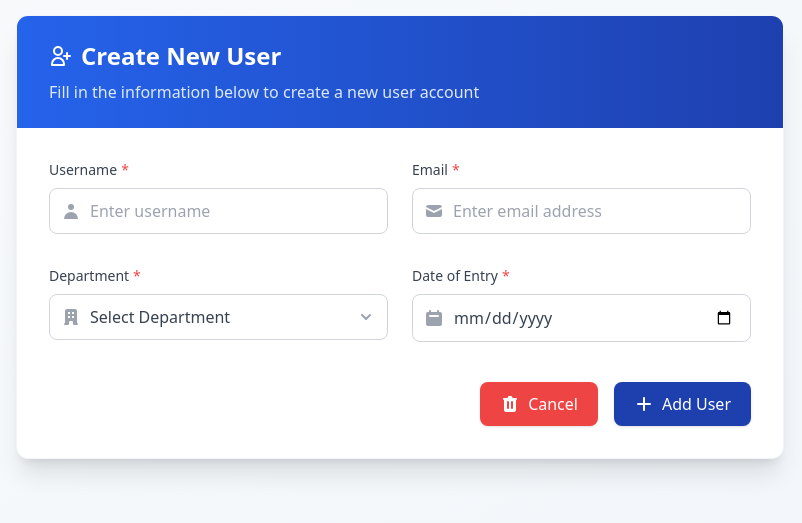
Scenario: UserCreate Component › validates email format
The width and height of the screenshot is (802, 523).
Type "testuser" into the field labelled "Username*". click: (218, 211)
box: [49,188,388,234]
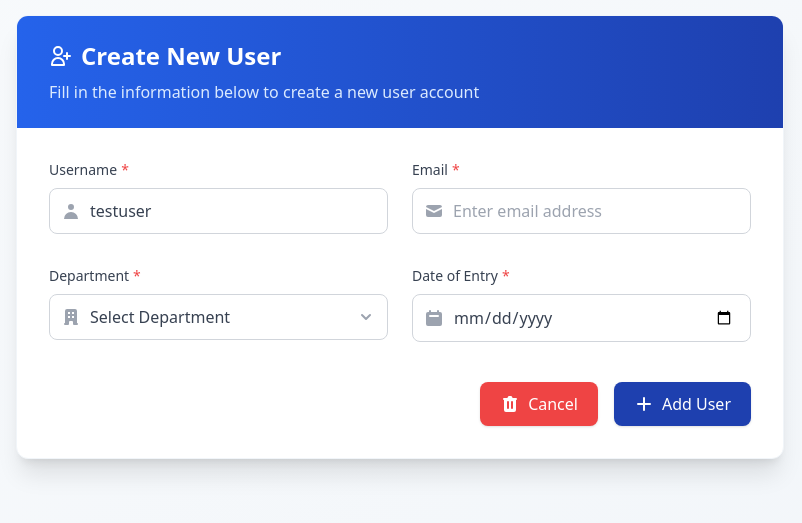
# Use an email without the required dot in the domain part
Type "invalid@domain" into the field labelled "Email*". click: (582, 211)
box: [412,188,751,234]
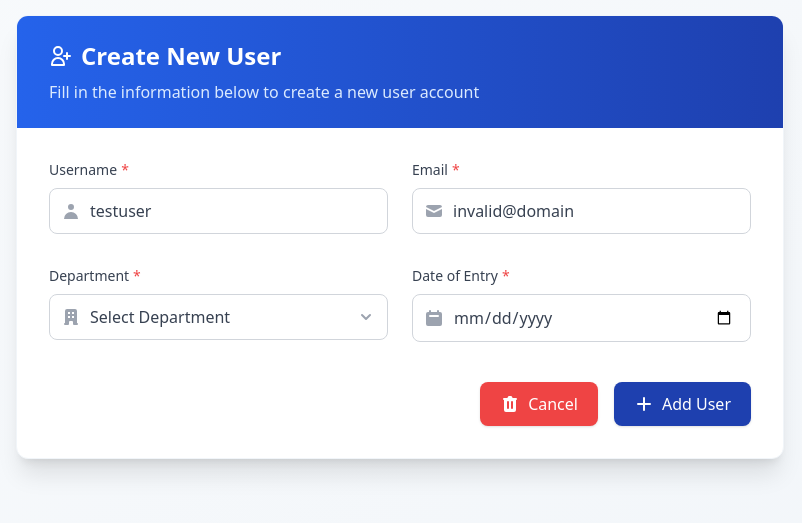
Select "IT" in the dropdown labelled "Department*". click: (218, 317)
box: [49,294,388,340]
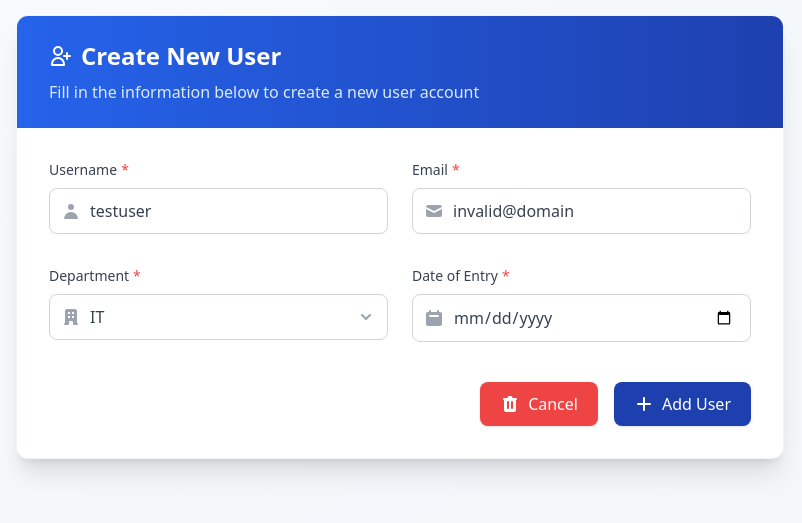
Type "2023-01-01" into the date field labelled "Date of Entry*". click: (582, 318)
box: [412,294,751,342]
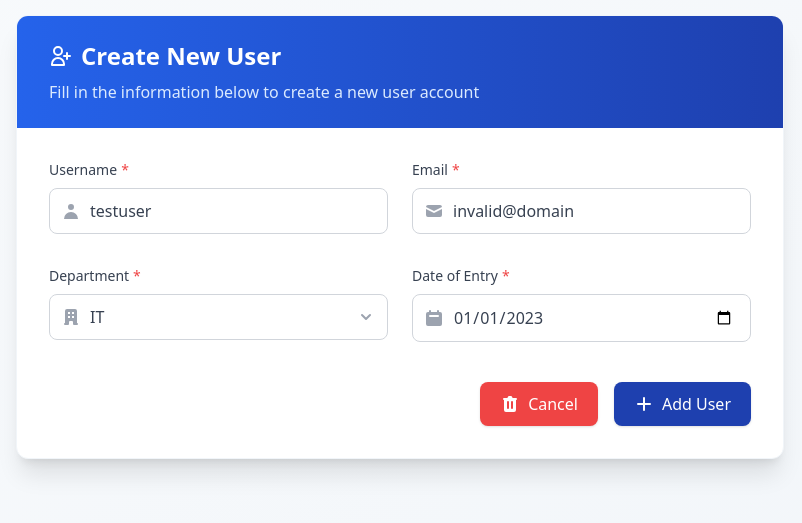
# Submit the form
Click the button "Add User". click: (682, 404)
box: [614,382,751,426]
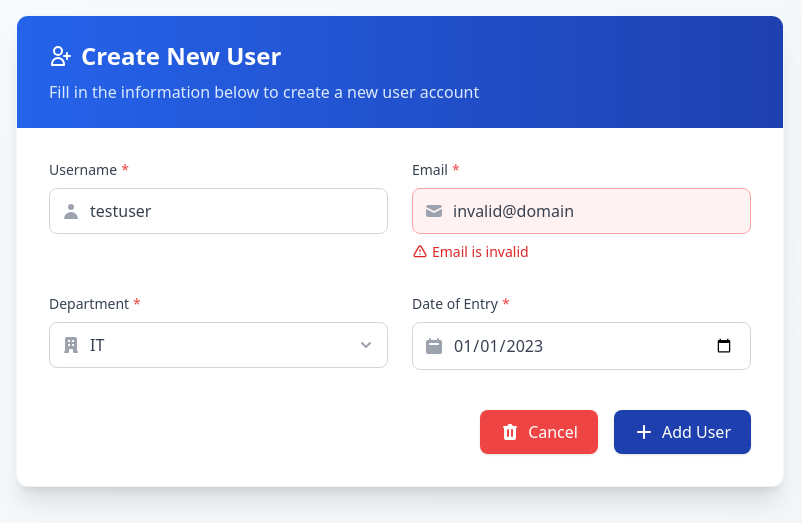
Result: the text "Email is invalid" is shown at [412,242,529,261]
